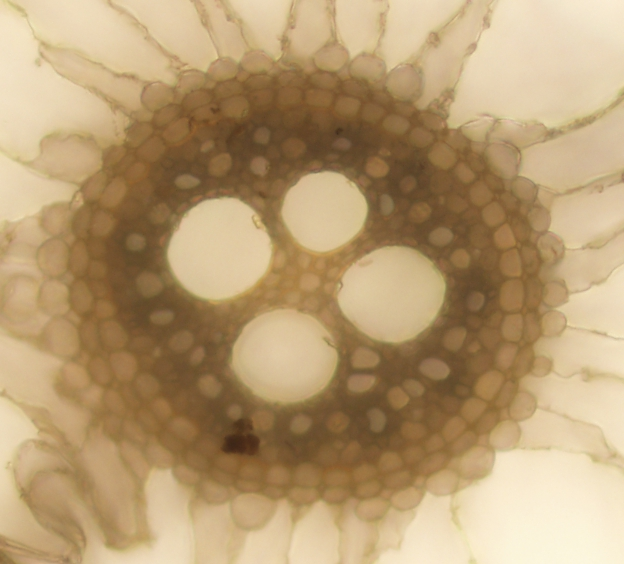lm: (166, 195, 274, 301), (335, 245, 446, 343), (230, 309, 339, 405), (281, 170, 368, 251)
